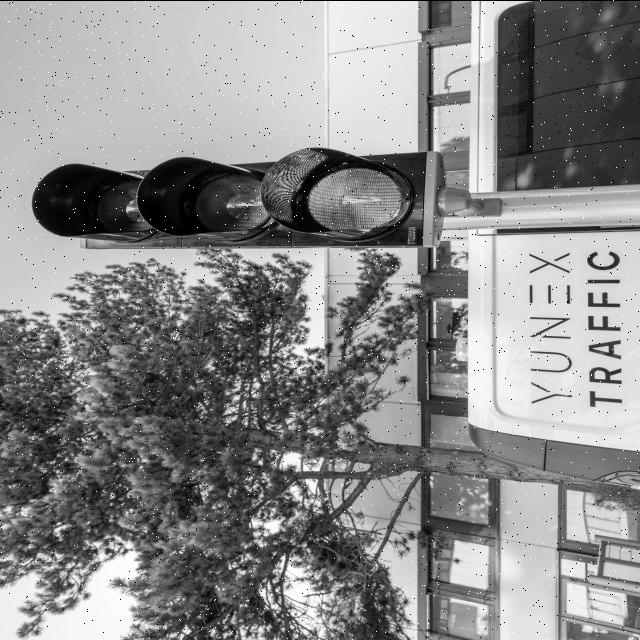green: (74, 155, 434, 249)
